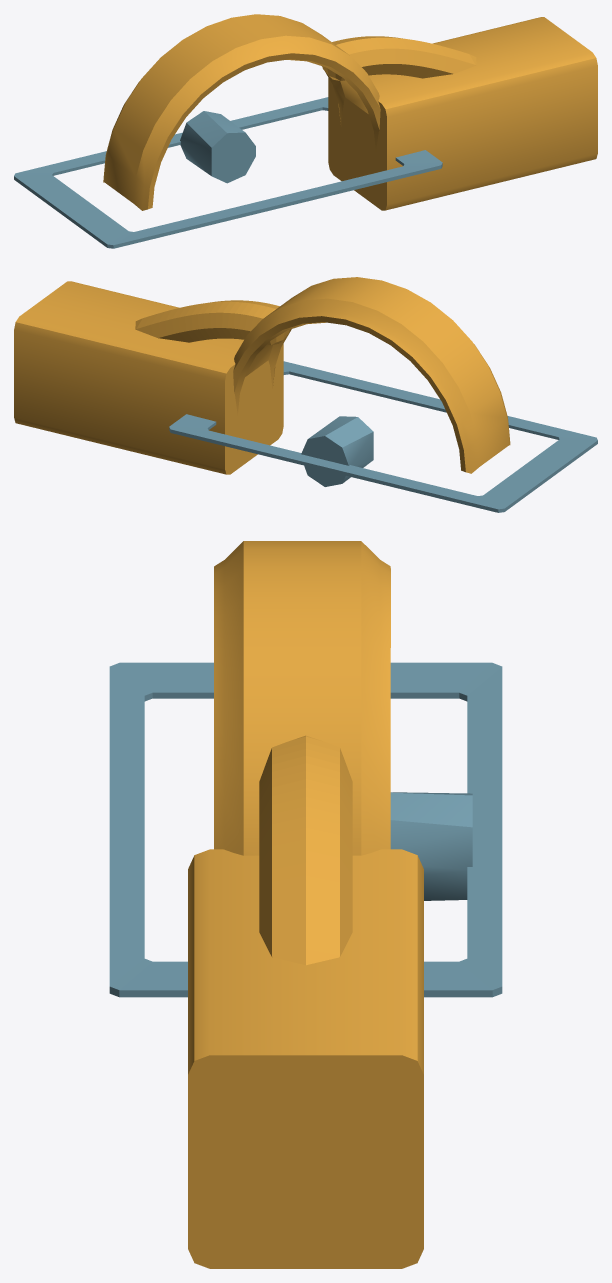
The model's file is M_Sawbody_1.glb.
3 views of the same model, one above another, from view 1: azimuth 30°, elevation 25°; view 2: azimuth 150°, elevation 25°; view 3: azimuth 270°, elevation 25° (orthographic). The views are drawn at different scales.
Visible parts, largest first — view 1: SawBody; view 2: SawBody; view 3: SawBody.
Part boxes in pixels (left/top/right/bottom): SawBody: left=14, top=14, right=597, bottom=248; SawBody: left=14, top=277, right=597, bottom=512; SawBody: left=109, top=541, right=502, bottom=1268.
Bounding box in the file's own units: 2.99 × 1.08 × 1.
